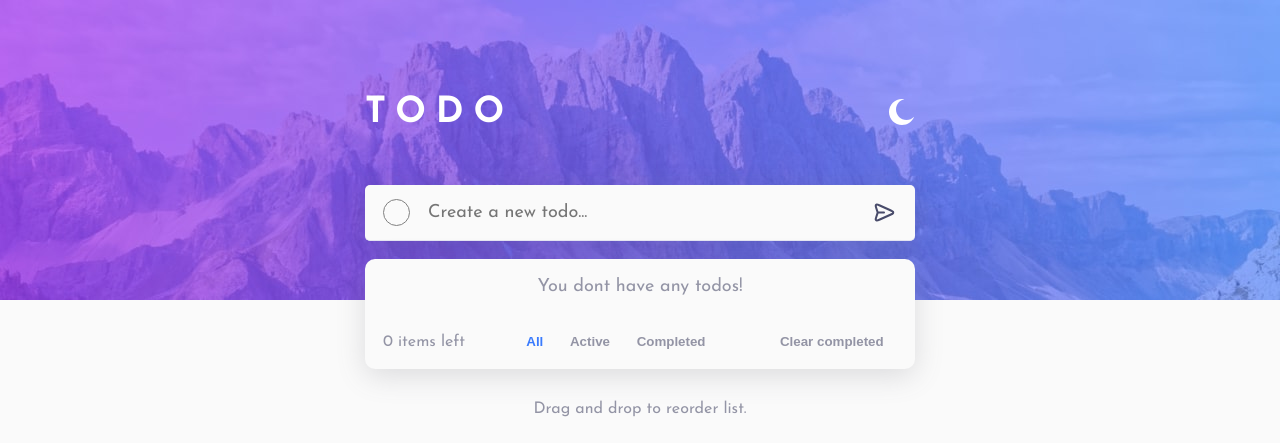
Todo Actions › should add new ToDo by clicking enter
Type "Write test in cypress with enter key" into the field with test id "todo-input". click: (641, 213)
box: 428,185 -> 854,240
Then press Enter
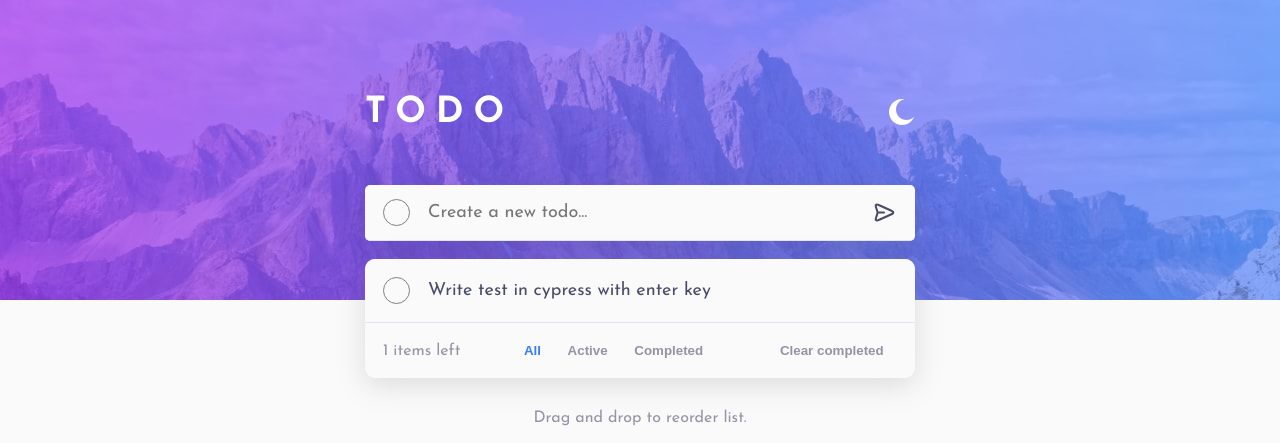
Result: the text "Write test in cypress with enter key" is shown at 428,281 -> 711,300
